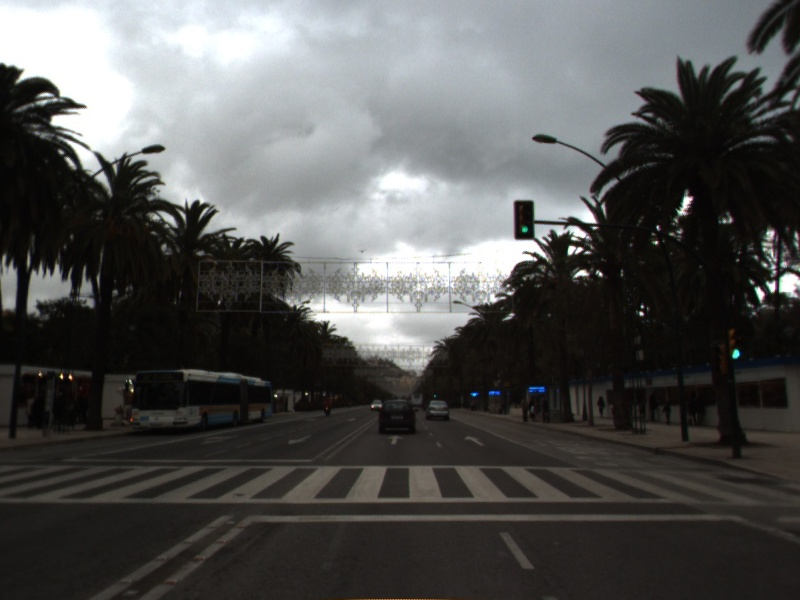STRAIGHT: (462, 433, 486, 448), (385, 433, 406, 447)
